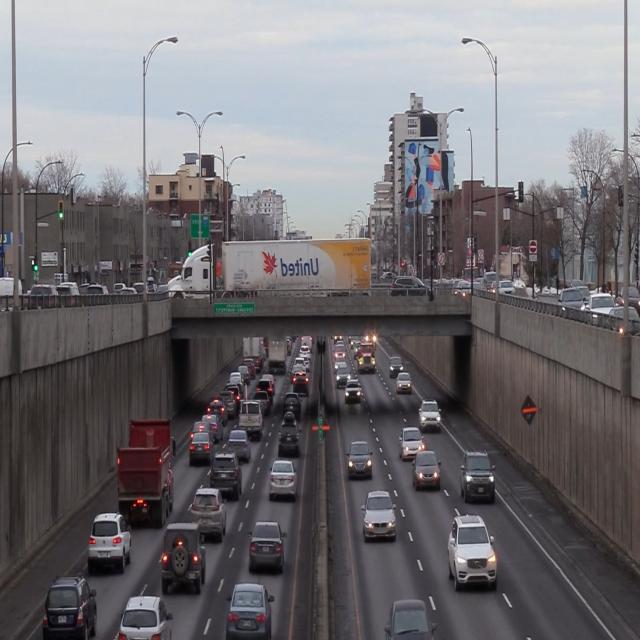Vehicle: (114, 420, 177, 522), (446, 510, 500, 588), (42, 577, 98, 640), (225, 581, 276, 640), (158, 530, 206, 591), (86, 512, 133, 573), (246, 520, 288, 574), (118, 596, 168, 640), (361, 488, 397, 542), (189, 488, 227, 539), (459, 447, 494, 502), (210, 450, 241, 500), (267, 457, 298, 499), (410, 450, 441, 490), (276, 414, 302, 457), (346, 439, 372, 480), (398, 426, 422, 461), (418, 397, 442, 431), (226, 431, 252, 462), (239, 401, 262, 436), (189, 431, 212, 465), (396, 370, 413, 397), (344, 378, 362, 403), (387, 352, 402, 378), (336, 364, 350, 387)
